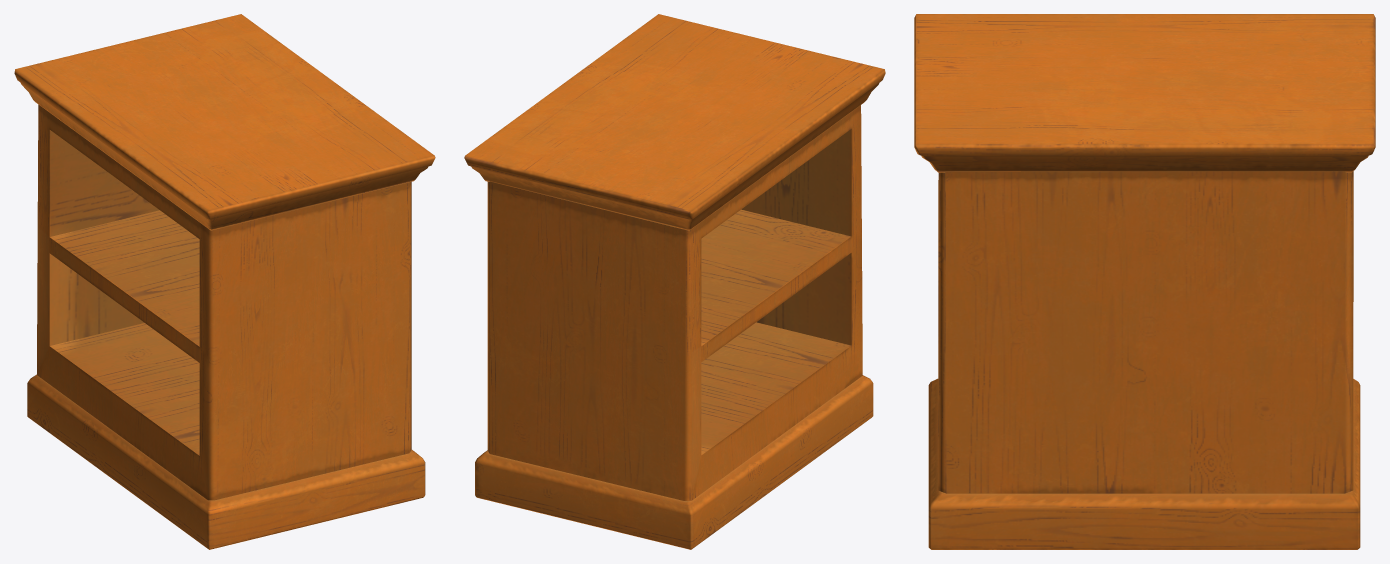
File: SM_BedTable_A1.fbx
3 renders of one model, left to right at view 1: azimuth 30°, elevation 25°; view 2: azimuth 150°, elevation 25°; view 3: azimuth 270°, elevation 25°, orthographic. The views are drawn at different scales.
Visible parts, largest first — view 1: SM_BedTable_A1; view 2: SM_BedTable_A1; view 3: SM_BedTable_A1.
Boxes of the visible parts, box(x1,y1,x2,y2) form: SM_BedTable_A1: box(14, 14, 435, 549); SM_BedTable_A1: box(464, 14, 885, 549); SM_BedTable_A1: box(914, 14, 1375, 549).
Size of the model in its own units: 35.27 by 52 by 50.8.
1 material, 1 textured.
